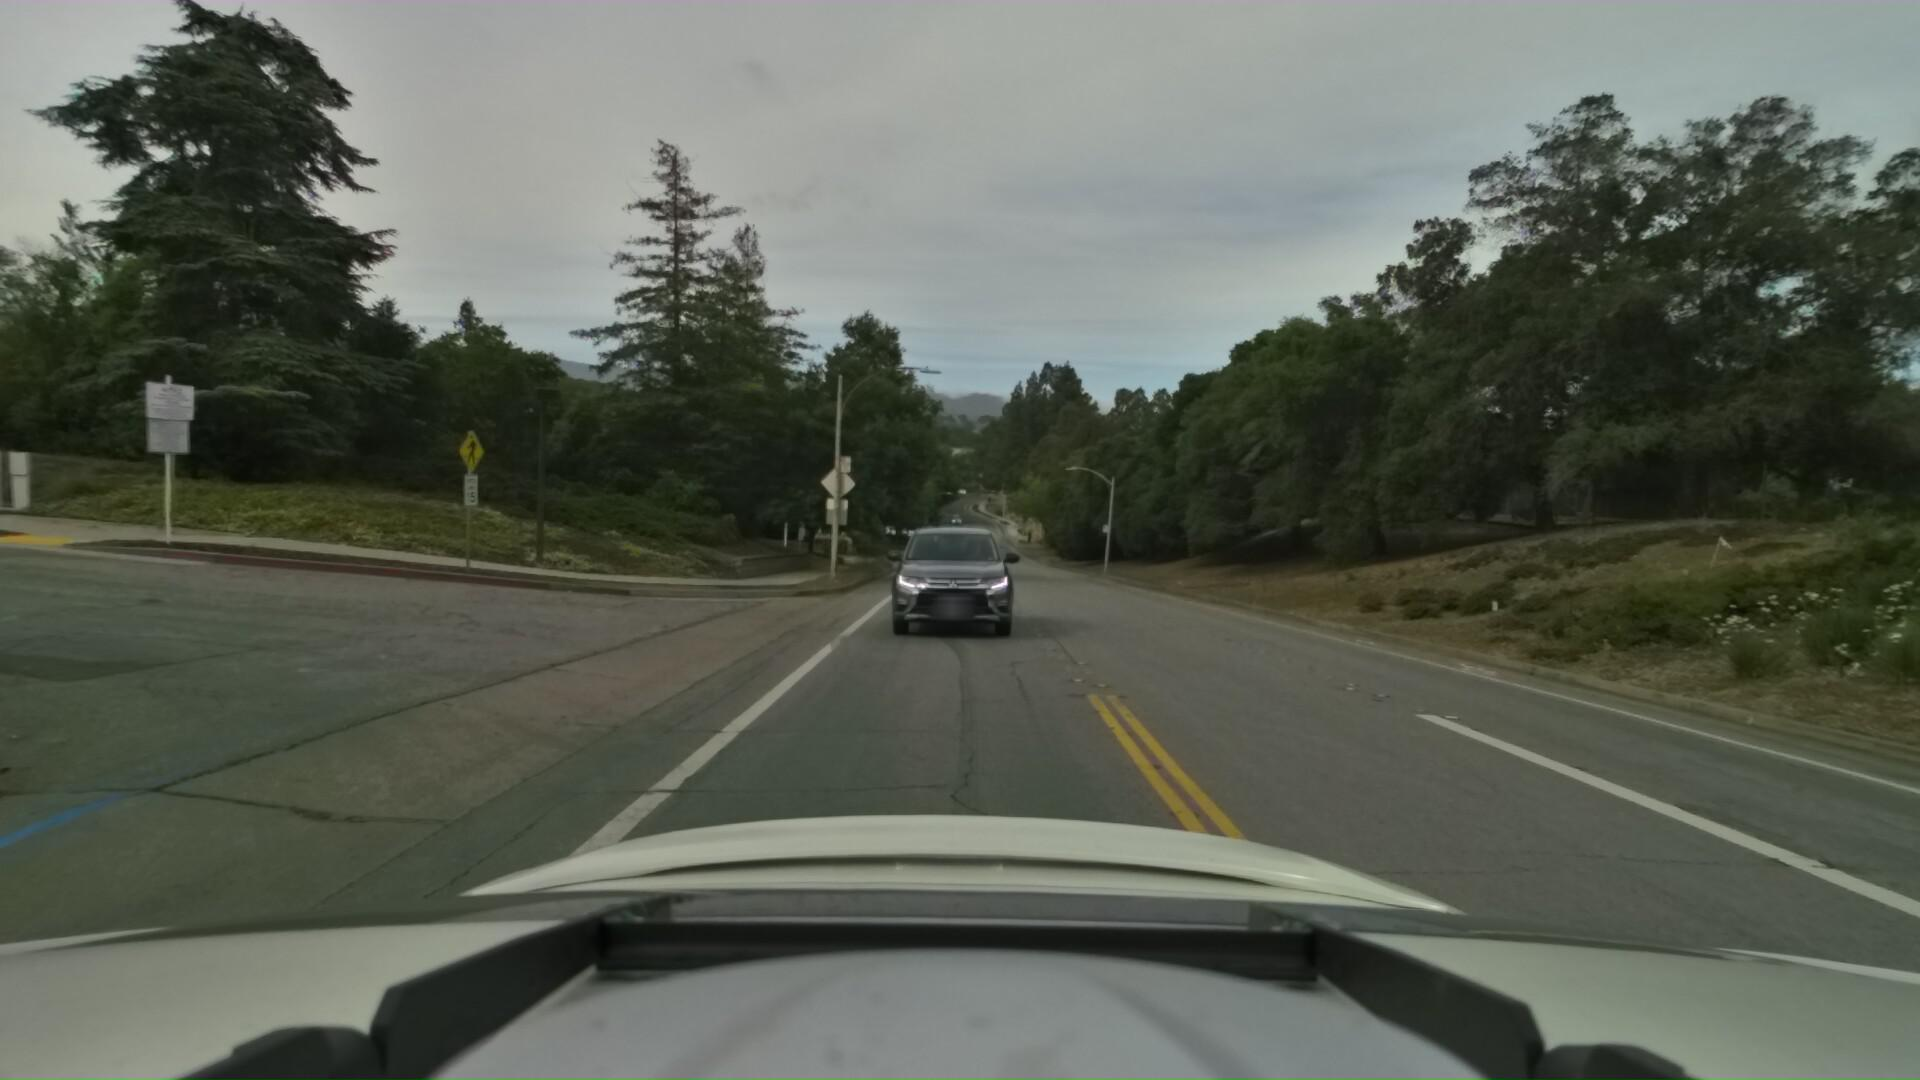car: (872, 502, 1021, 675)
